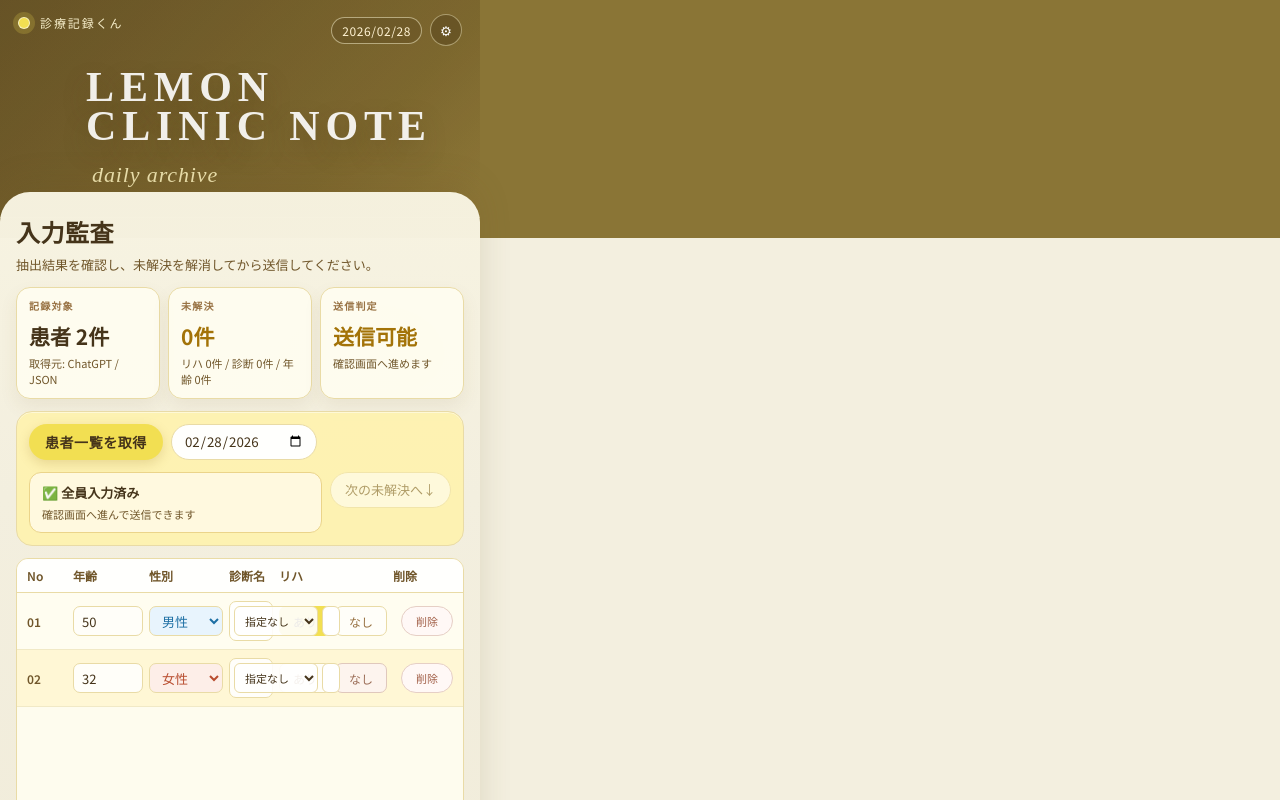
MainScreen › 削除後にtoastを表示し元に戻すでINSERT_PATIENTをdispatchする
Click the button with aria-label "remove-1": coordinates (427, 678) [401,663,453,693]
(page scrolled)
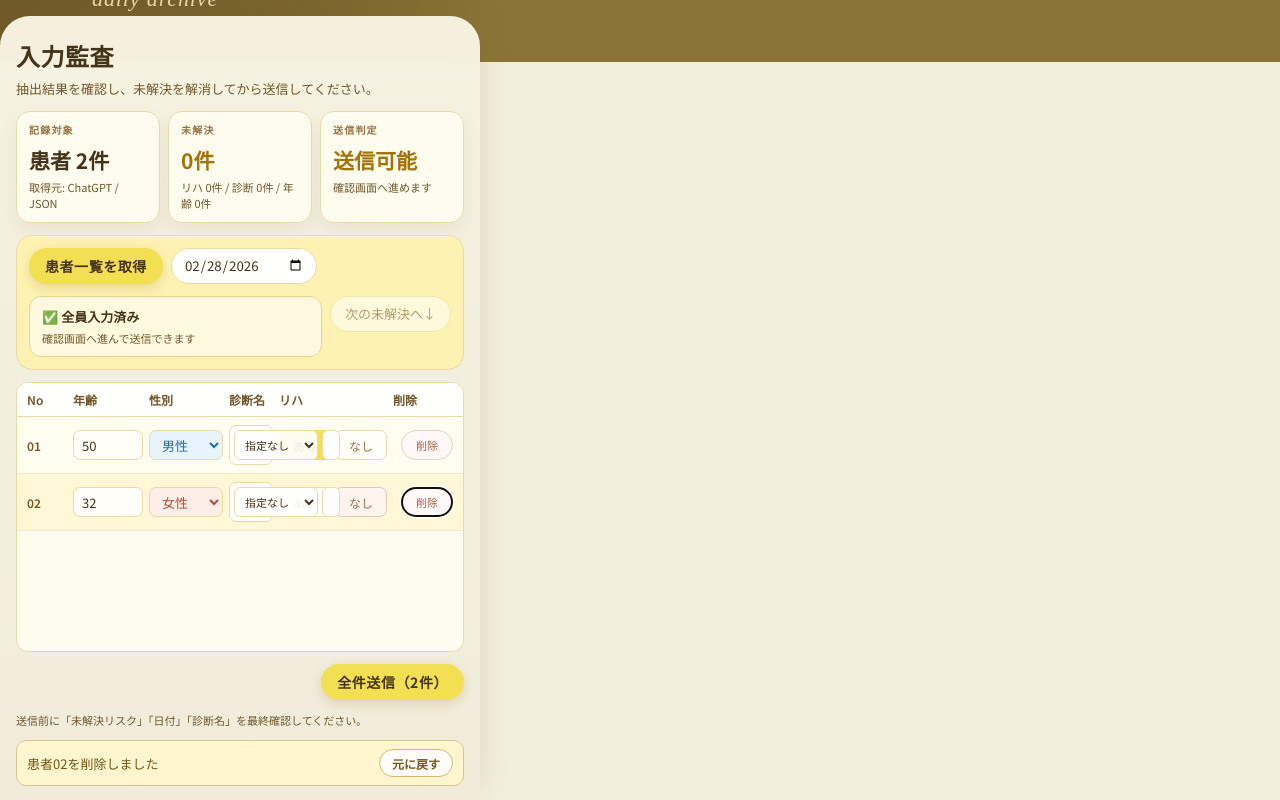
Result: the text "患者02を削除しました" is shown at [27,754,158,772]
Result: the button with aria-label "undo-remove" is shown
Click the button with aria-label "undo-remove": coordinates (416, 763) [379,749,453,777]
(page scrolled)
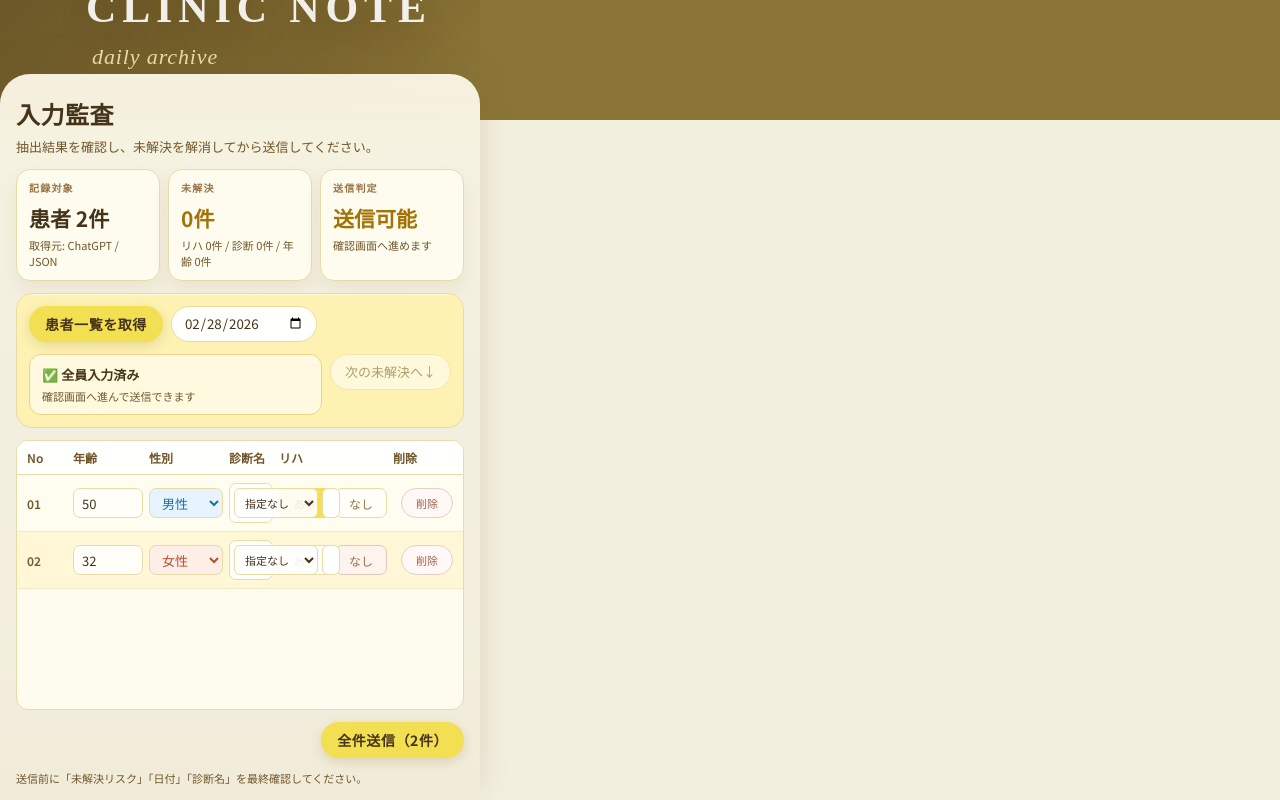
Result: the text "患者02を削除しました" is gone
